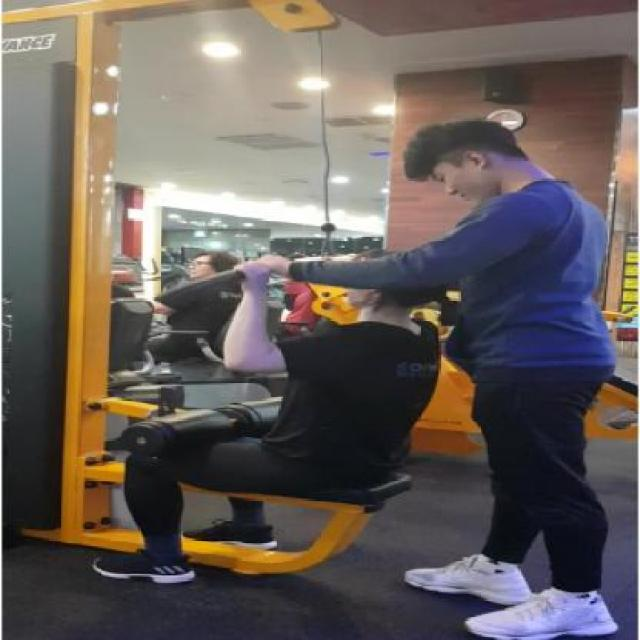Lat Pull Down: (0, 0, 535, 600)
